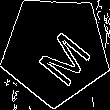M_NW: (23, 16, 89, 84)
